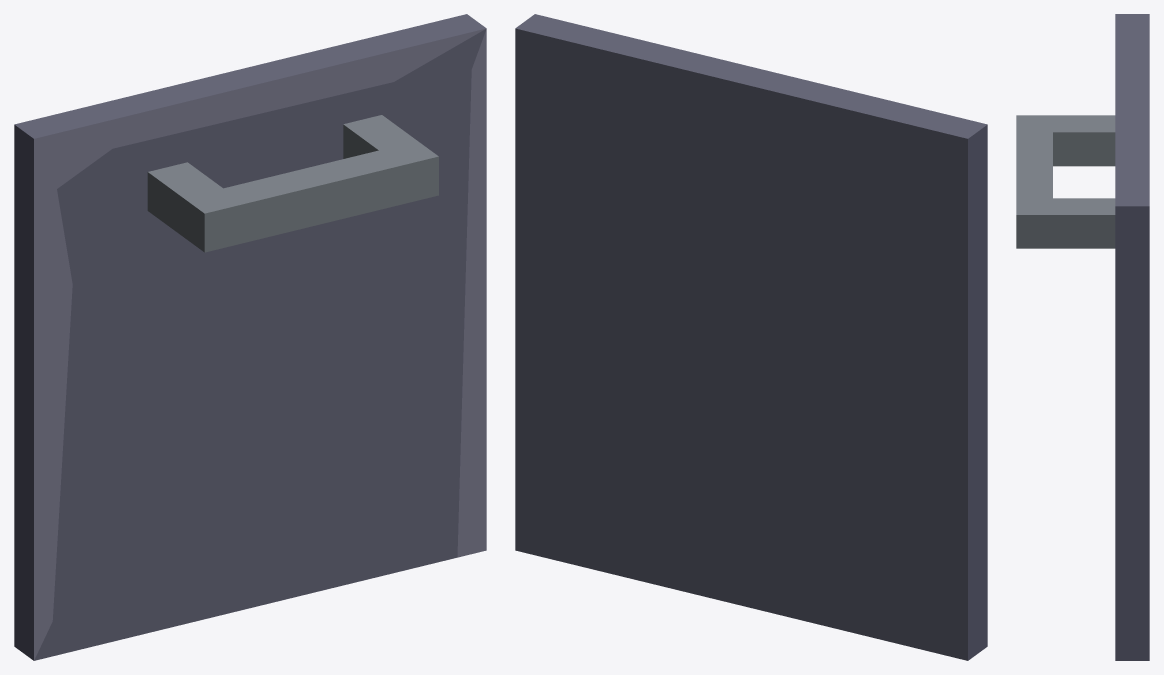
The model's file is elevatorPanelDoor.glb.
3 views of the same model, side by side, from view 1: azimuth 30°, elevation 25°; view 2: azimuth 150°, elevation 25°; view 3: azimuth 270°, elevation 25° (orthographic). The views are drawn at different scales.
Parts seen in each view (by area): view 1: elevatorPanelDoor; view 2: elevatorPanelDoor; view 3: elevatorPanelDoor.
Part boxes in pixels (x1,y1,x2,y2): elevatorPanelDoor: [14, 14, 486, 660]; elevatorPanelDoor: [515, 14, 987, 660]; elevatorPanelDoor: [1016, 14, 1149, 660].
Bounding box in the file's own units: 0.7679 × 0.8461 × 0.2252.
